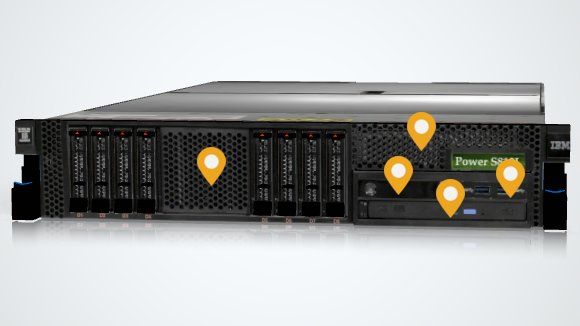ibm-server: (7, 76, 580, 242)
